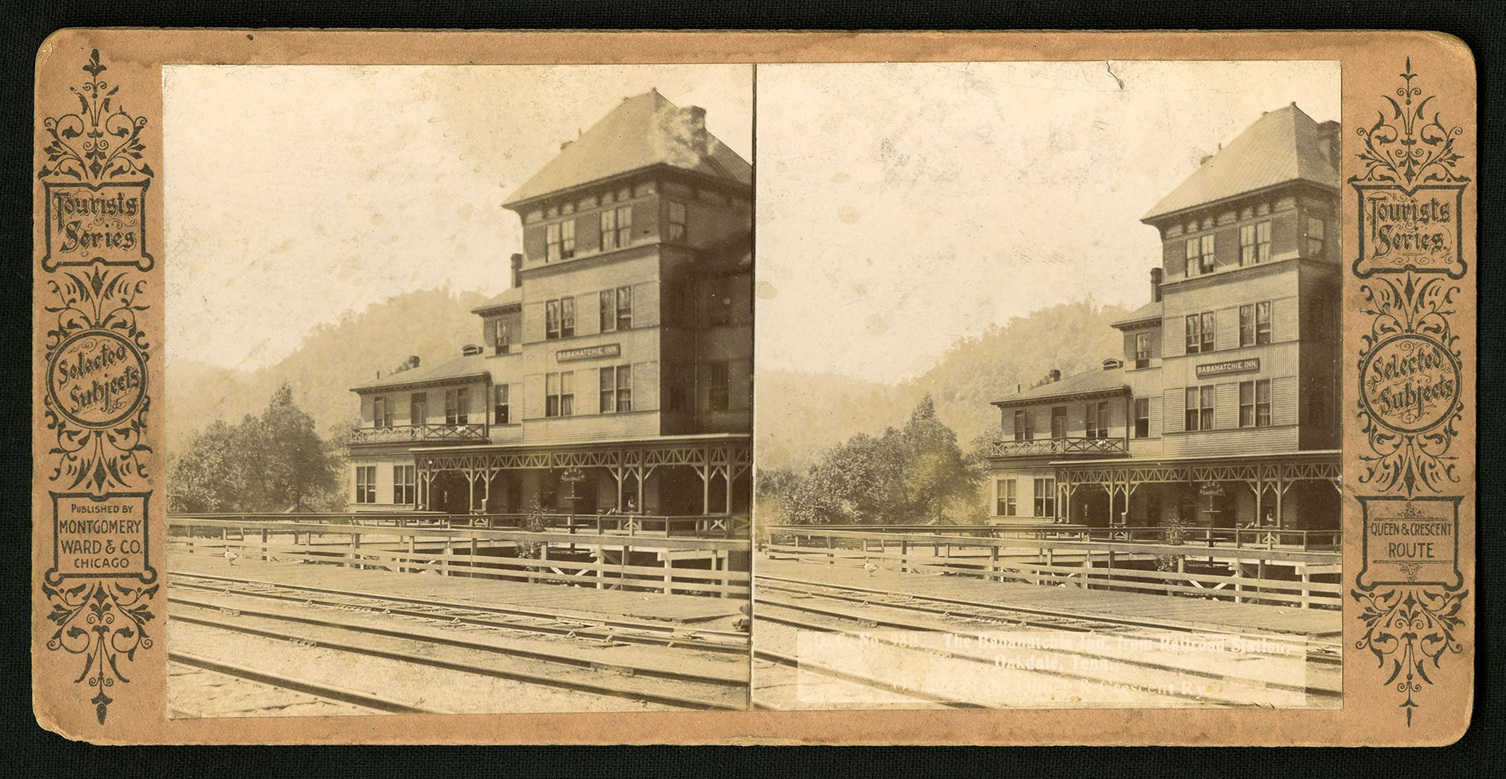half_image: (163, 66, 754, 719), (753, 62, 1343, 709)
